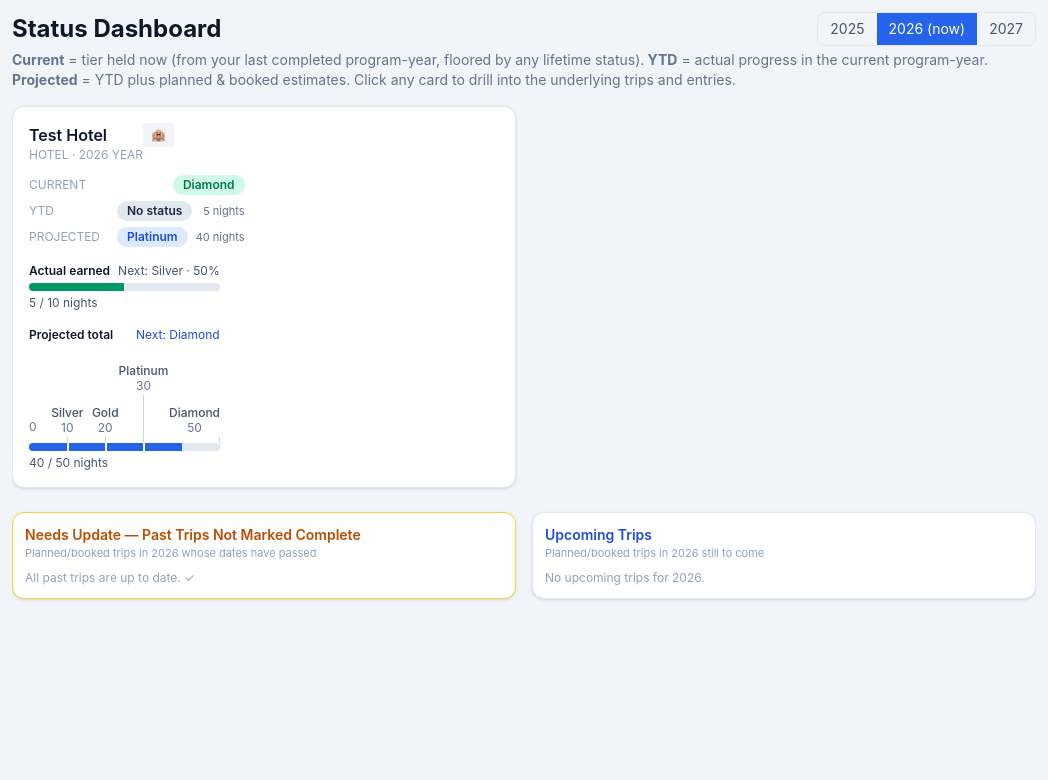
Test: dashboard dual progress › integrates both bars in Dashboard and refreshes data on year selection
This screenshot has width=1048, height=780.
Expected: the text "Actual earned" is shown, [29, 263, 110, 279]
Expected: the number of progress indicators is 2, [29, 283, 220, 291]; [29, 443, 220, 451]
Click the button "2025".
click(847, 29)  # box [818, 13, 876, 45]
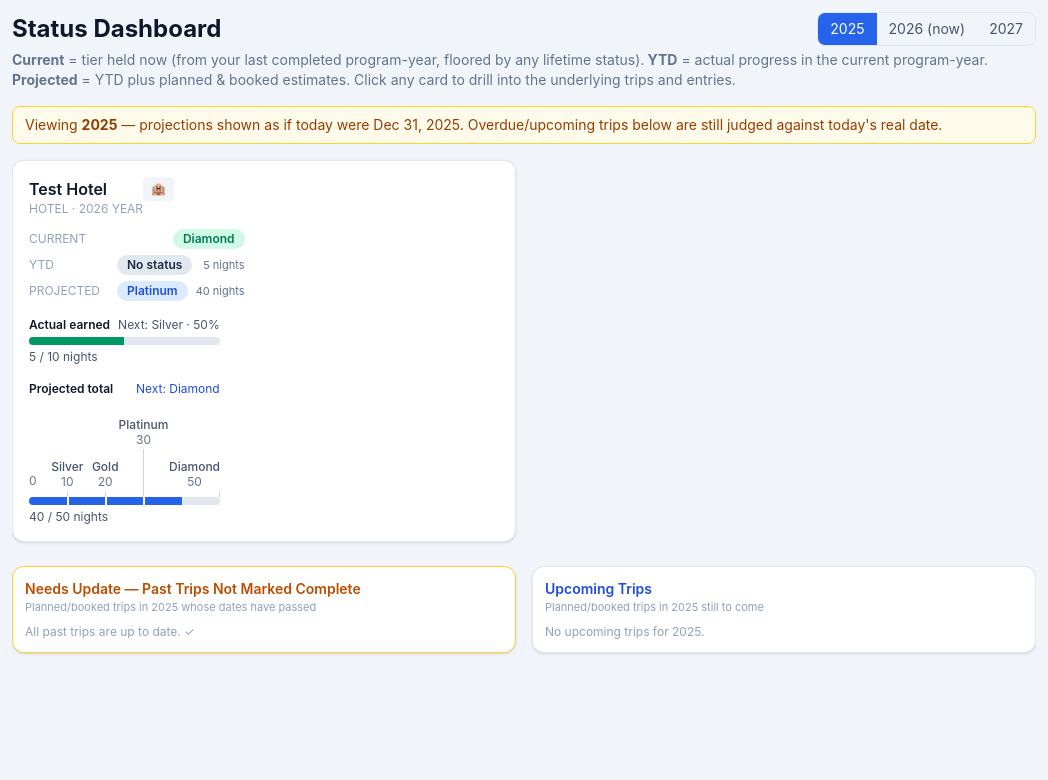
Result: the text "Viewing" is shown at [25, 116, 82, 133]
